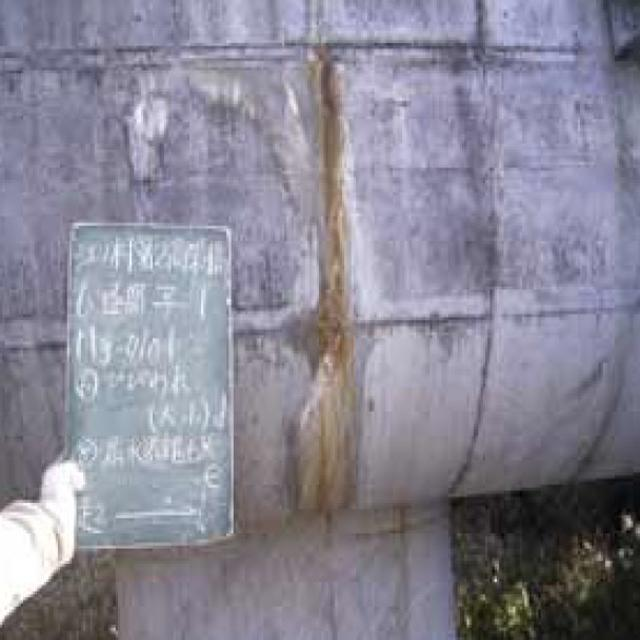corrosion: (279, 57, 370, 509)
